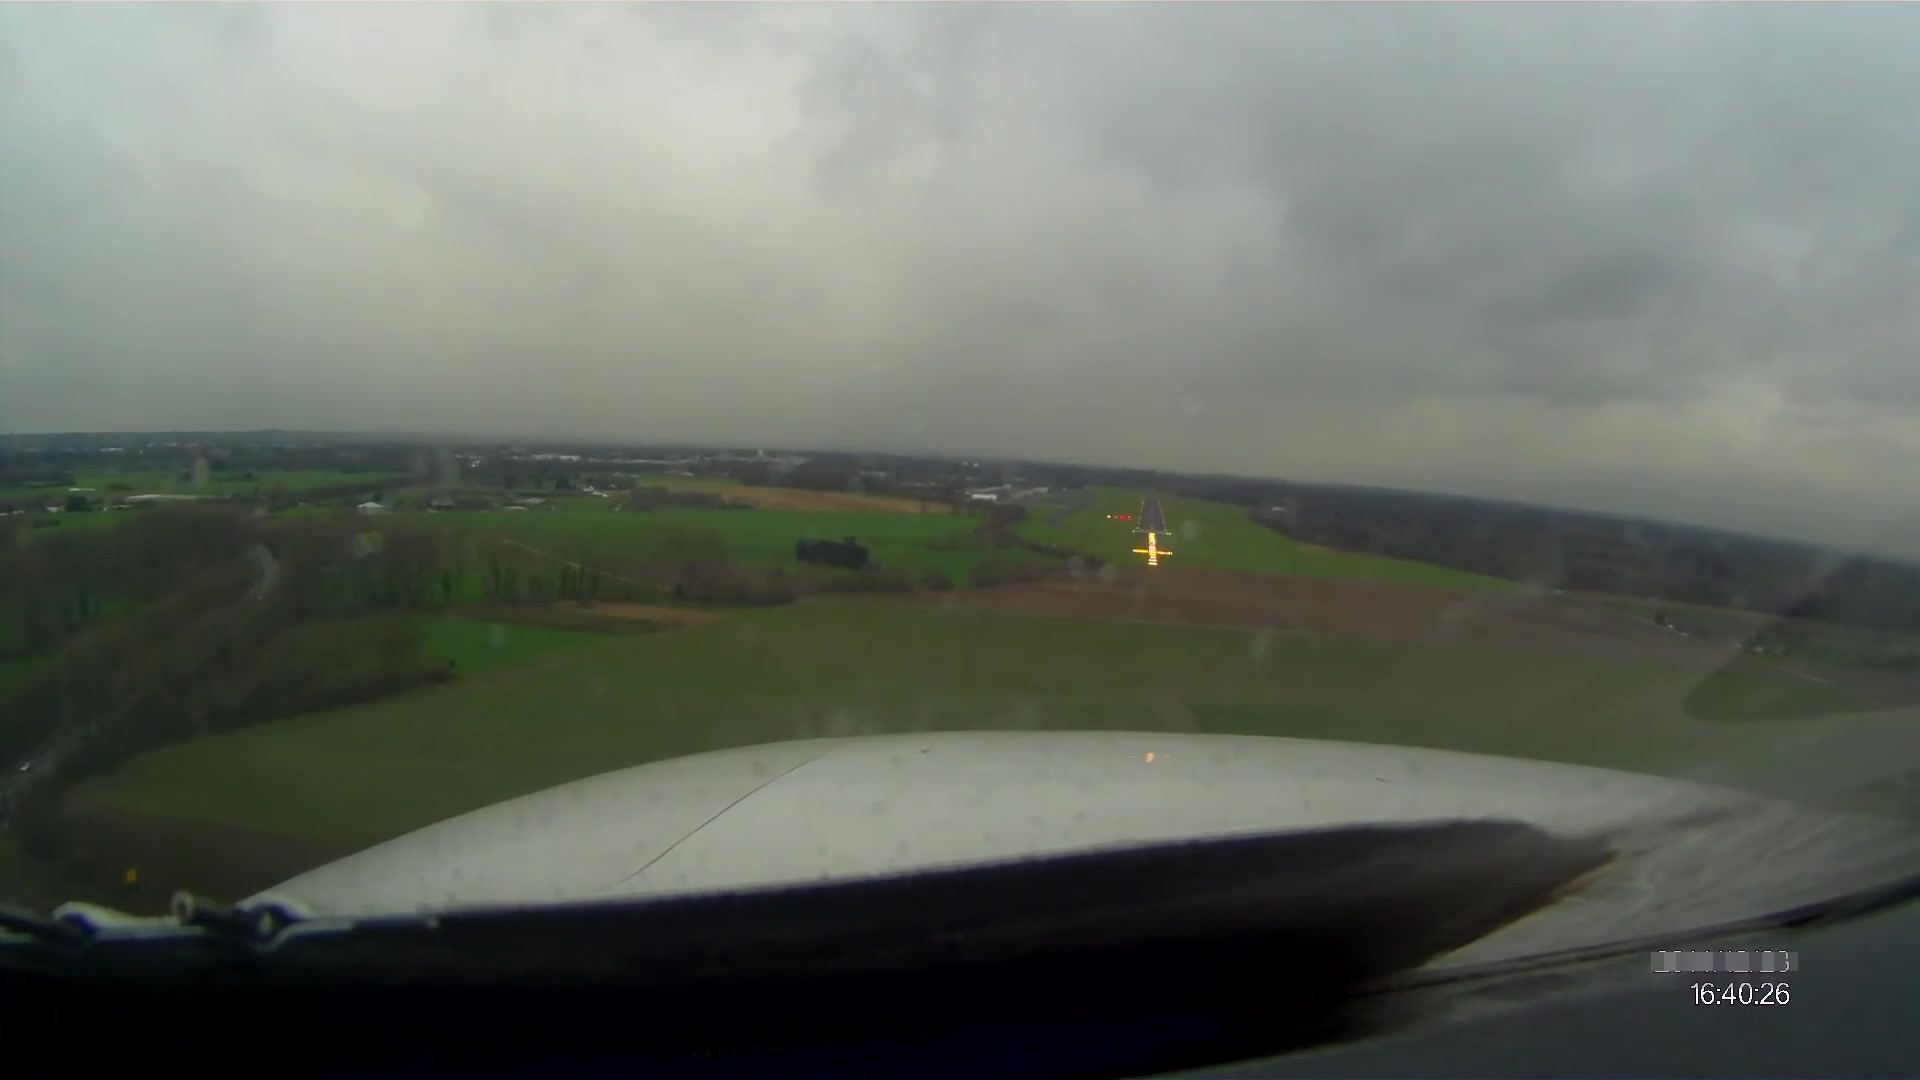runway: (1134, 500, 1168, 535)
